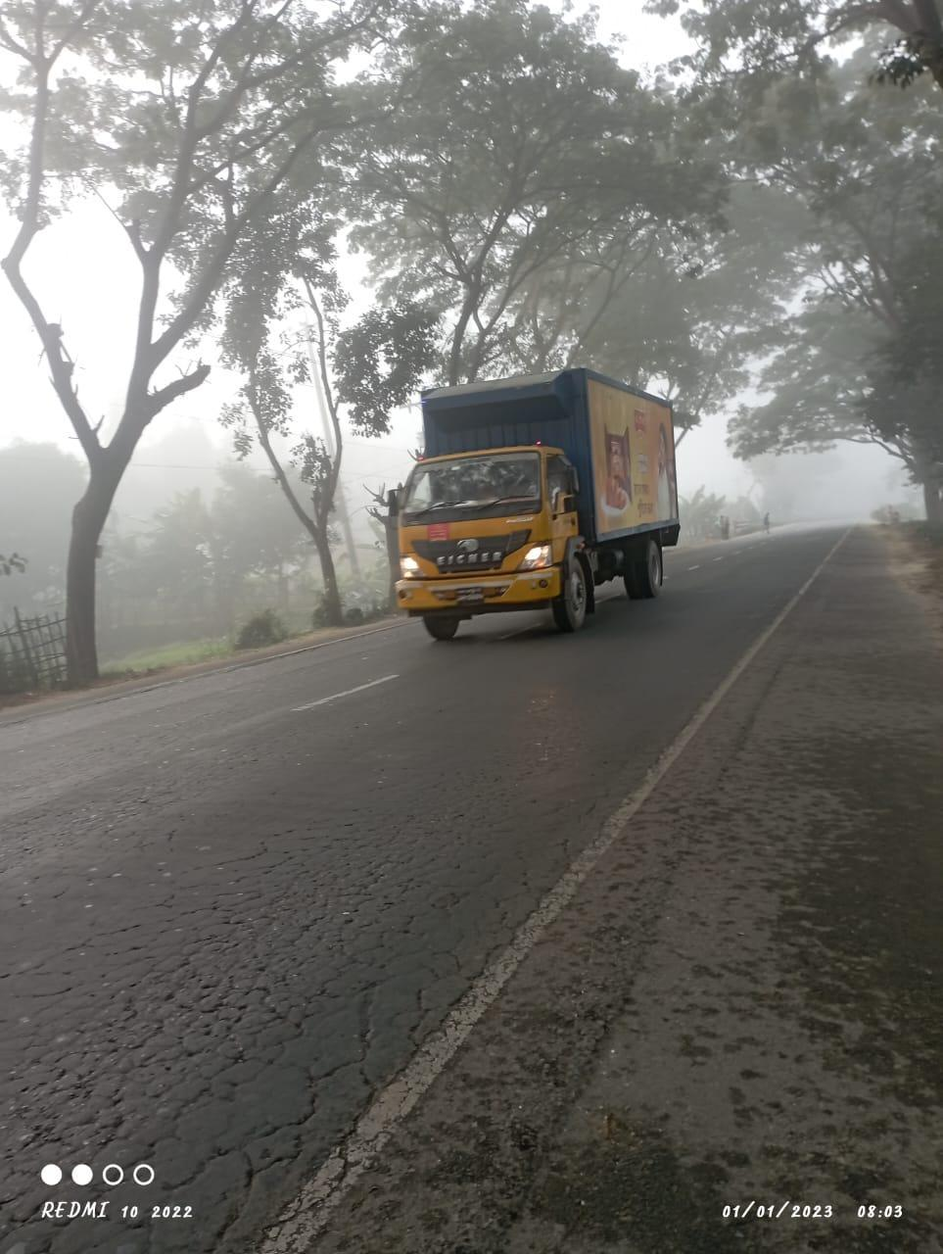Truck: (368, 354, 686, 640)
